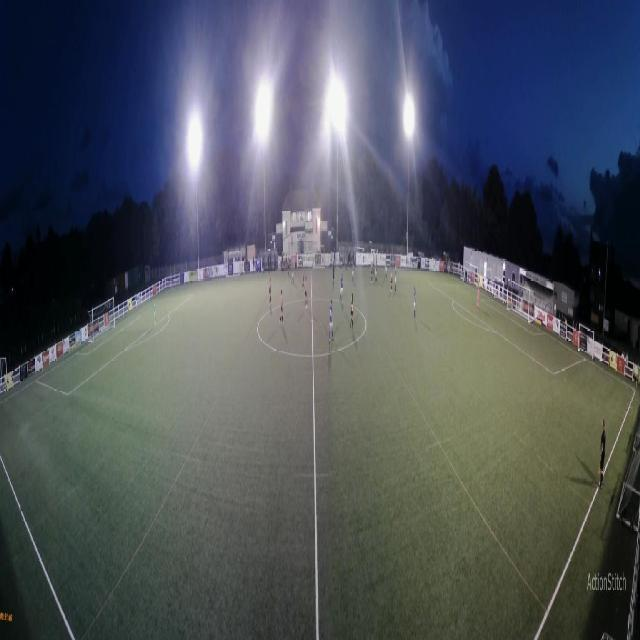player: (329, 300, 334, 342), (279, 289, 284, 325), (350, 293, 354, 329), (339, 275, 343, 303), (305, 276, 308, 310), (269, 278, 272, 308), (332, 262, 335, 287), (291, 261, 294, 285), (384, 256, 387, 280), (477, 285, 480, 309), (302, 266, 305, 288), (414, 287, 416, 319), (375, 261, 378, 282), (154, 298, 156, 325), (391, 267, 393, 293), (395, 266, 397, 292), (352, 260, 354, 282), (371, 260, 373, 282), (373, 255, 375, 276), (288, 256, 290, 276), (345, 251, 347, 270), (376, 255, 377, 264)
